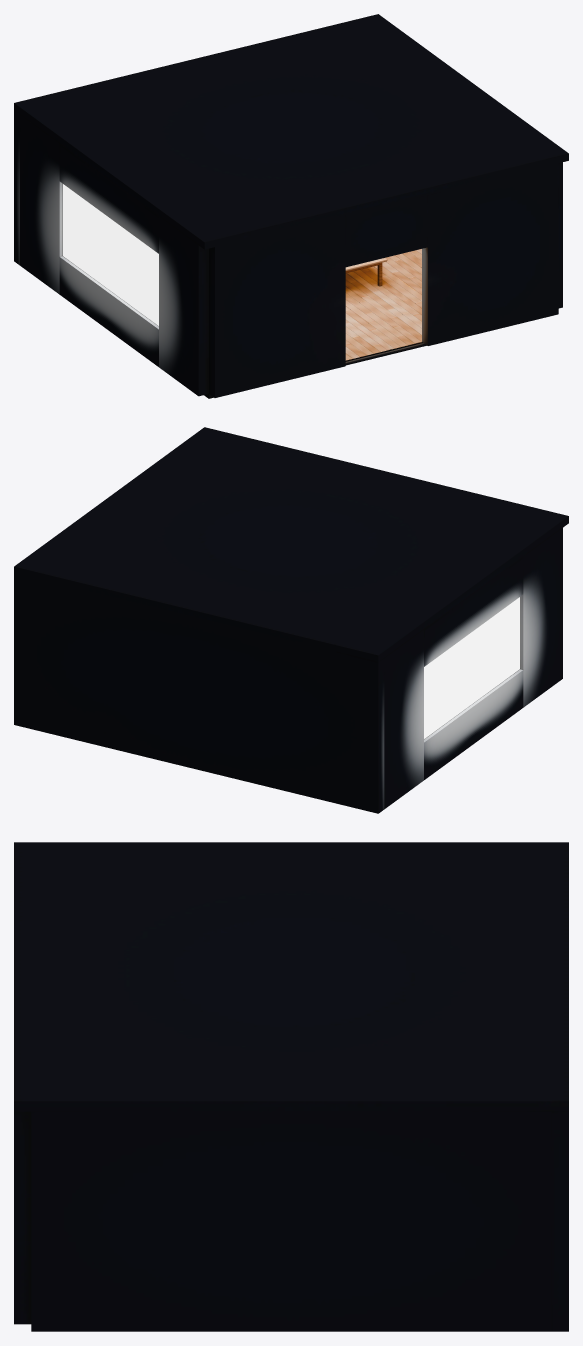
Rendered from room_rails.glb.
3 views of the same model, one above another, from view 1: azimuth 30°, elevation 25°; view 2: azimuth 150°, elevation 25°; view 3: azimuth 270°, elevation 25° (orthographic). The views are drawn at different scales.
Parts seen in each view (by area): view 1: baked_ceiling, baked_walls, baked_floor, window_glass; view 2: baked_walls, baked_ceiling, window_glass; view 3: baked_ceiling, baked_walls.
Boxes of the visible parts, x1,y1,x2,y2 form: baked_ceiling: [14, 14, 568, 249]; baked_walls: [14, 110, 562, 397]; baked_floor: [204, 249, 426, 398]; window_glass: [63, 184, 158, 325]; baked_walls: [14, 528, 562, 813]; baked_ceiling: [14, 427, 568, 662]; window_glass: [424, 597, 519, 738]; baked_ceiling: [14, 842, 568, 1111]; baked_walls: [14, 1111, 568, 1331].
Size of the model in its own units: 10.6 by 4.54 by 9.6.
Materials: 6 (4 with a texture image).
